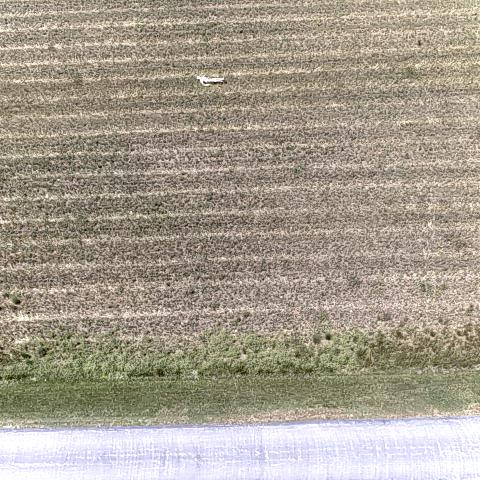person: (194, 72, 229, 88)
